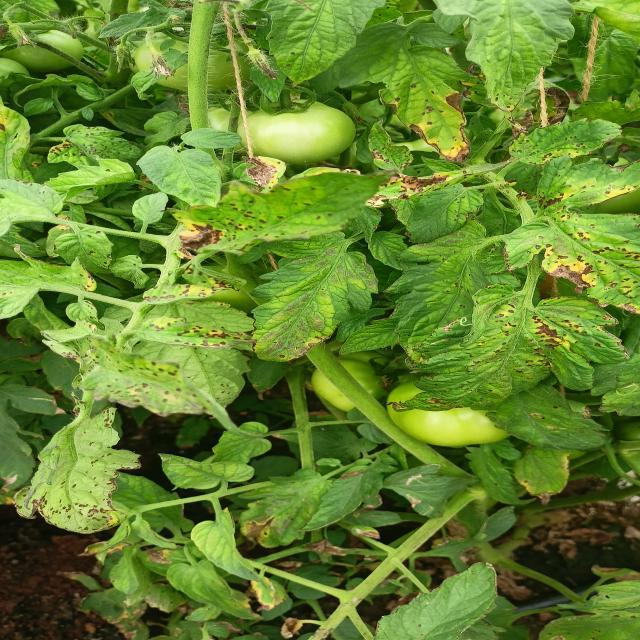Tomato mosaic virus leaf: (383, 283, 640, 416), (9, 404, 142, 536), (501, 212, 640, 318), (373, 58, 482, 166), (358, 168, 480, 243), (163, 192, 296, 258), (504, 114, 626, 170), (530, 154, 640, 213), (41, 124, 147, 170), (133, 314, 254, 352), (52, 226, 116, 278), (140, 280, 226, 307), (243, 154, 289, 192)
